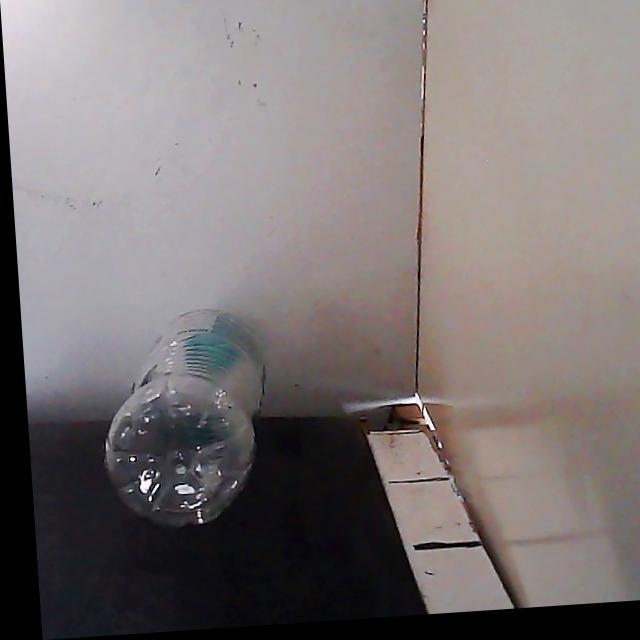plastico: (105, 309, 265, 526)
